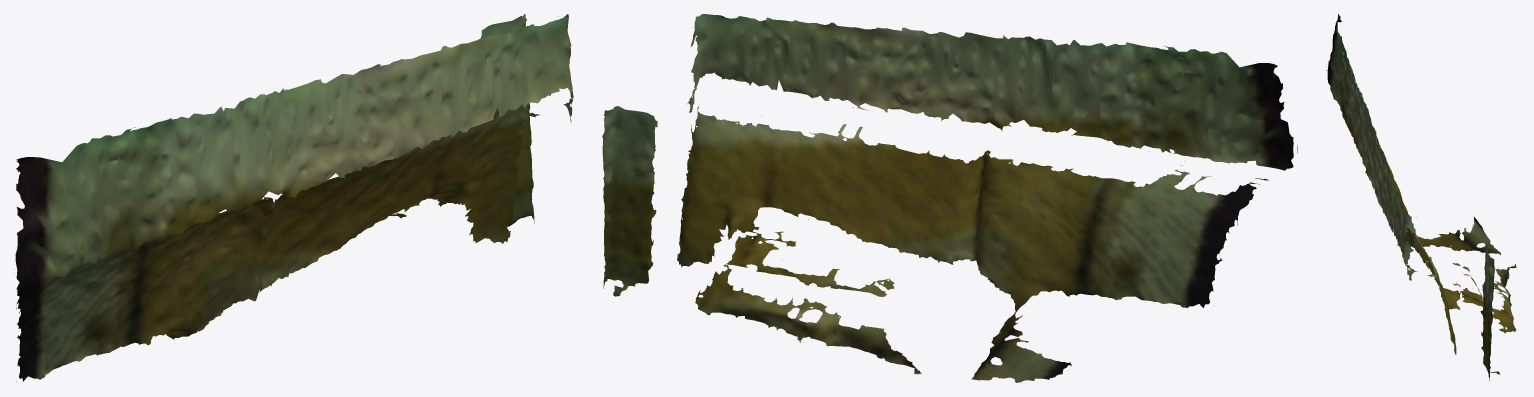
Rendered from color_model_f003_20260205_111114.obj.
3 views of the same model, side by side, from view 1: azimuth 30°, elevation 25°; view 2: azimuth 150°, elevation 25°; view 3: azimuth 270°, elevation 25° (orthographic). The views are drawn at different scales.
Bounding box in the file's own units: 1.82 × 0.8441 × 0.7959.
